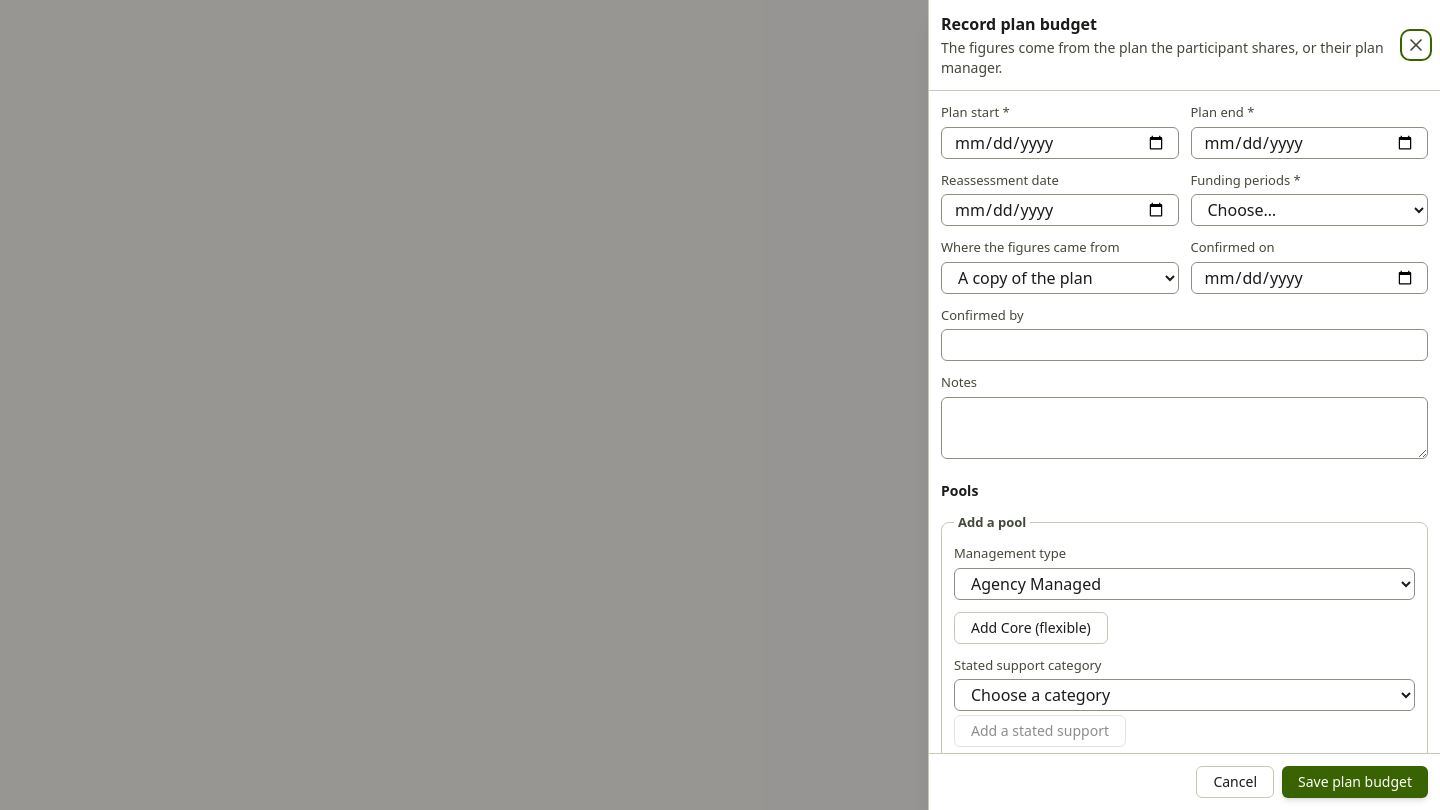
Scenario: editor: a new plan › adds a Core (flexible) pool under the management type chosen, and the participant’s plan type is the default
Select "Plan Managed" in the dropdown labelled "Management type" at (1184, 584), box [954,568,1415,600]
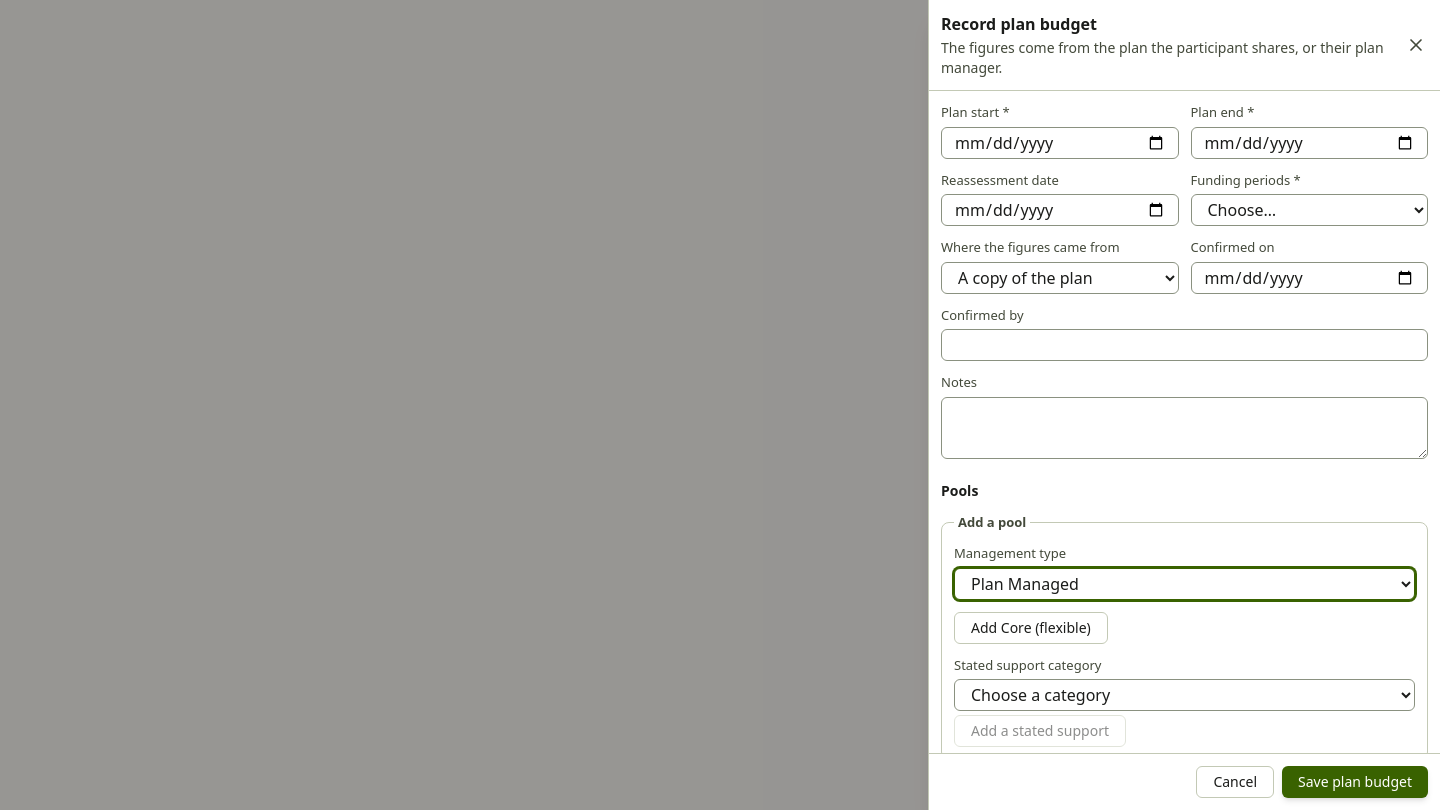
Click the button "Add Core (flexible)" at (1031, 628), box [954,612,1108,644]
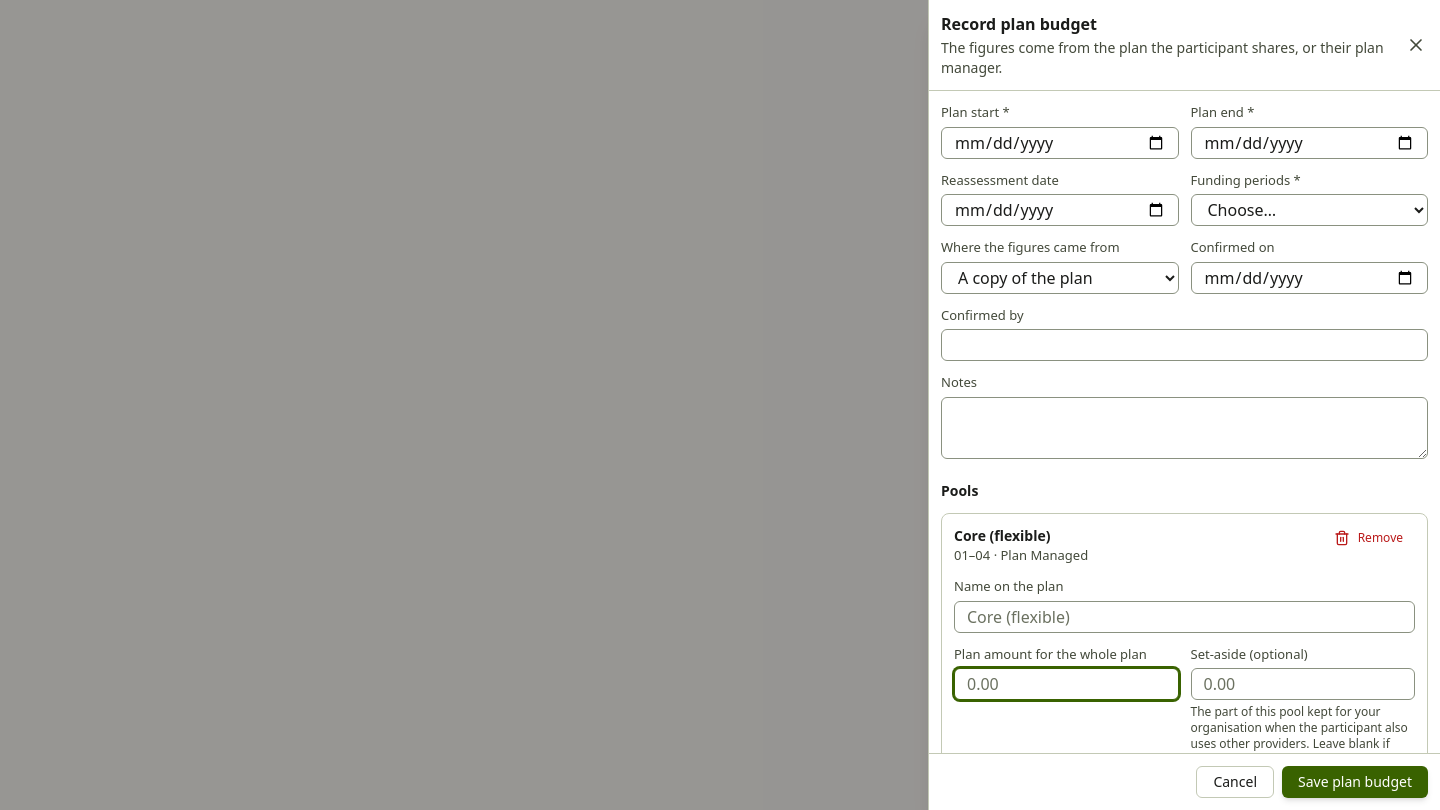
Check: the text "01–04" is shown, box [954,546,990,564]
Check: the field labelled "Plan amount for the whole plan" is shown, box [954,668,1178,700]
Check: the field labelled "Set-aside (optional)" is shown, box [1190,668,1415,700]
